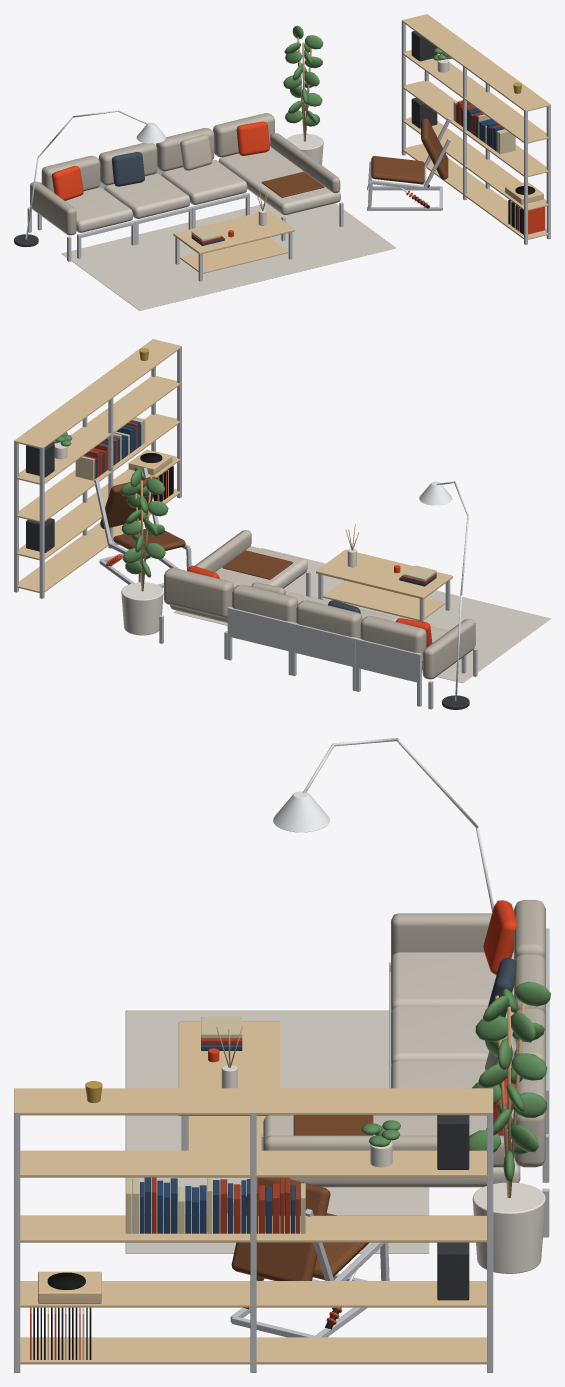
The model's file is salon.glb.
3 renders of one model, top to bottom at view 1: azimuth 30°, elevation 25°; view 2: azimuth 150°, elevation 25°; view 3: azimuth 270°, elevation 25°, orthographic. The views are drawn at different scales.
Parts seen in each view (by area): view 1: rug_salon, es_b4, sfc_seat, es_b3, sf2_seat, ct_top, sf1_seat, es_b1, es_b0, es_b2, sf0_seat, ct_shelf (+23 smaller); view 2: rug_salon, es_b4, es_b3, ct_top, es_b2, sfc_back, es_b0, ct_shelf, es_b1, sf0_bx, bp_pot, sf1_bx (+18 smaller); view 3: rug_salon, es_b4, es_b0, es_b3, es_b1, es_b2, sf0_seat, ct_top, sf1_seat, bp_pot, sfc_seat, lg_cush_back (+21 smaller).
Boxes of the visible parts, x1,y1,x2,y2 form: rug_salon: [61, 203, 395, 310]; es_b4: [401, 14, 550, 111]; sfc_seat: [218, 145, 340, 215]; es_b3: [402, 50, 550, 143]; sf2_seat: [161, 159, 247, 204]; ct_top: [173, 210, 294, 254]; sf1_seat: [104, 173, 189, 218]; es_b1: [402, 117, 550, 210]; es_b0: [403, 143, 550, 239]; es_b2: [401, 80, 550, 177]; sf0_seat: [65, 187, 132, 232]; ct_shelf: [180, 237, 288, 273]; rug_salon: [174, 548, 550, 683]; es_b4: [14, 339, 181, 448]; es_b3: [14, 376, 181, 485]; ct_top: [316, 549, 452, 599]; es_b2: [14, 413, 181, 522]; sfc_back: [164, 568, 233, 617]; es_b0: [14, 488, 181, 593]; ct_shelf: [323, 580, 445, 620]; es_b1: [14, 451, 181, 560]; sf0_bx: [356, 638, 421, 682]; bp_pot: [121, 582, 163, 635]; sf1_bx: [291, 622, 357, 667]; rug_salon: [125, 1010, 429, 1253]; es_b4: [14, 1088, 493, 1115]; es_b0: [14, 1337, 493, 1364]; es_b3: [14, 1150, 493, 1177]; es_b1: [14, 1281, 493, 1307]; es_b2: [14, 1215, 493, 1242]; sf0_seat: [391, 952, 513, 1012]; ct_top: [178, 1021, 280, 1115]; sf1_seat: [391, 1006, 513, 1067]; bp_pot: [472, 1182, 545, 1273]; sfc_seat: [263, 1114, 520, 1187]; lg_cush_back: [231, 1177, 330, 1280].
Bounding box in the file's own units: 5.71 × 2.06 × 3.36.
